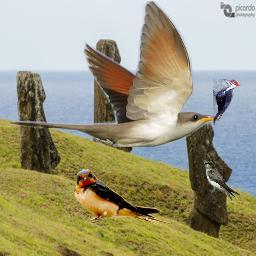Cuckoo: (9, 1, 219, 147)
Swallow: (73, 169, 171, 229), (204, 161, 240, 201)
Woodpecker: (213, 79, 241, 126)
